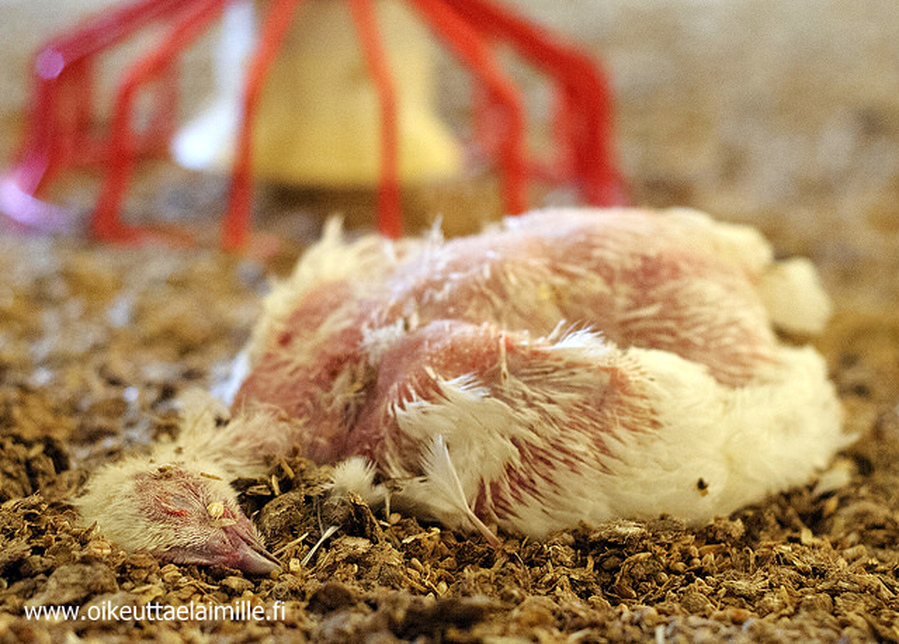Unhealthy: (80, 189, 857, 591)
